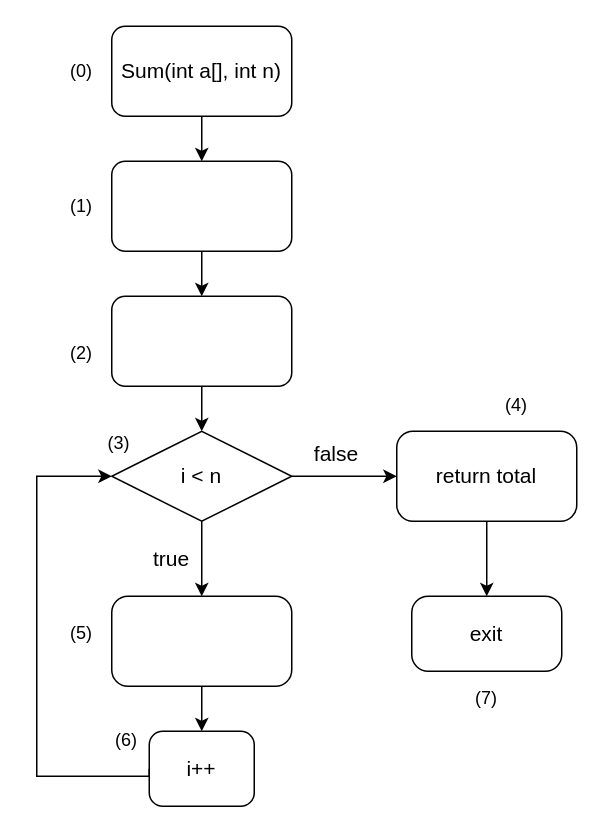
Image size: 603x833. Some labels were removed from this diagram. Each missing label, with the box of its shape:
i = 0: (110, 295, 292, 386)
int i, total = 0: (110, 160, 292, 251)
total += a[i]: (110, 595, 292, 686)
